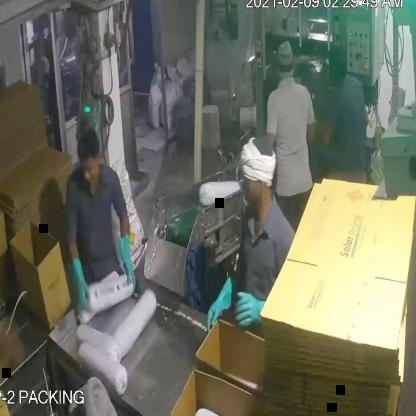glove: (198, 268, 238, 332), (112, 228, 144, 299), (66, 248, 96, 318), (234, 284, 274, 334)
